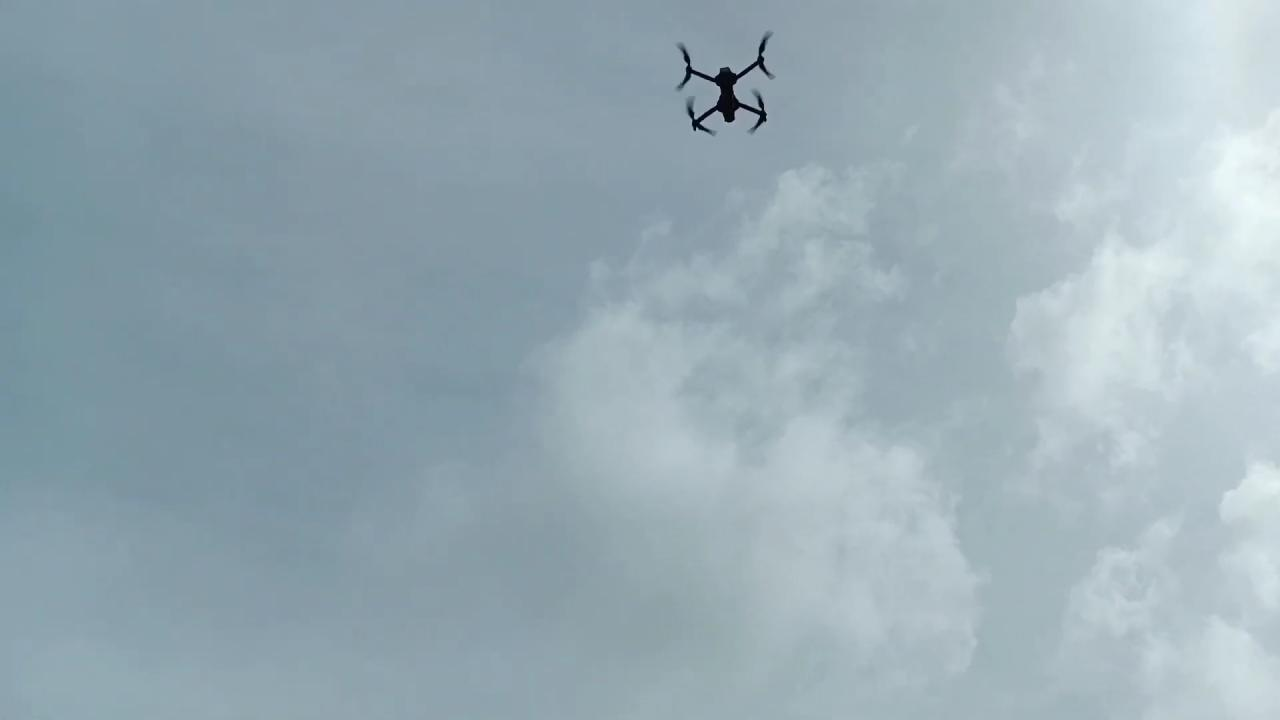Drone: (667, 18, 787, 144)
